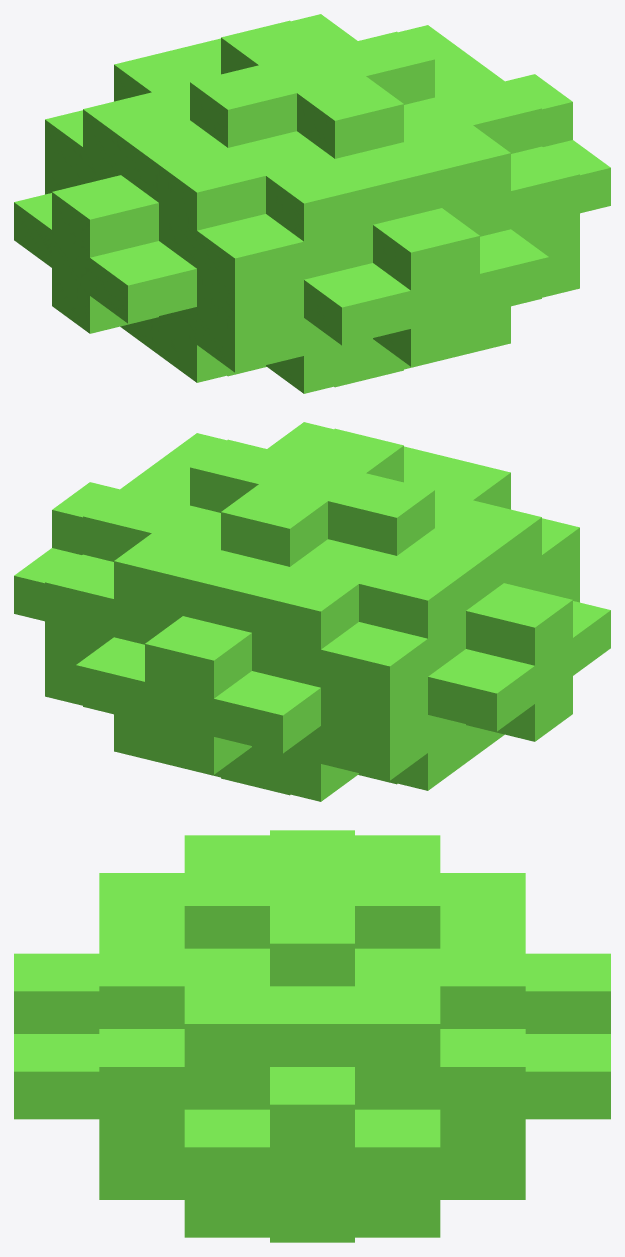
Rendered from bush.fbx.
3 renders of one model, top to bottom at view 1: azimuth 30°, elevation 25°; view 2: azimuth 150°, elevation 25°; view 3: azimuth 270°, elevation 25°, orthographic. The views are drawn at different scales.
Parts seen in each view (by area): view 1: Leaves1; view 2: Leaves1; view 3: Leaves1.
Boxes of the visible parts, x1,y1,x2,y2 form: Leaves1: (14, 14, 610, 393); Leaves1: (14, 422, 610, 801); Leaves1: (14, 830, 610, 1242).
Size of the model in its own units: 133 by 70.35 by 127.
